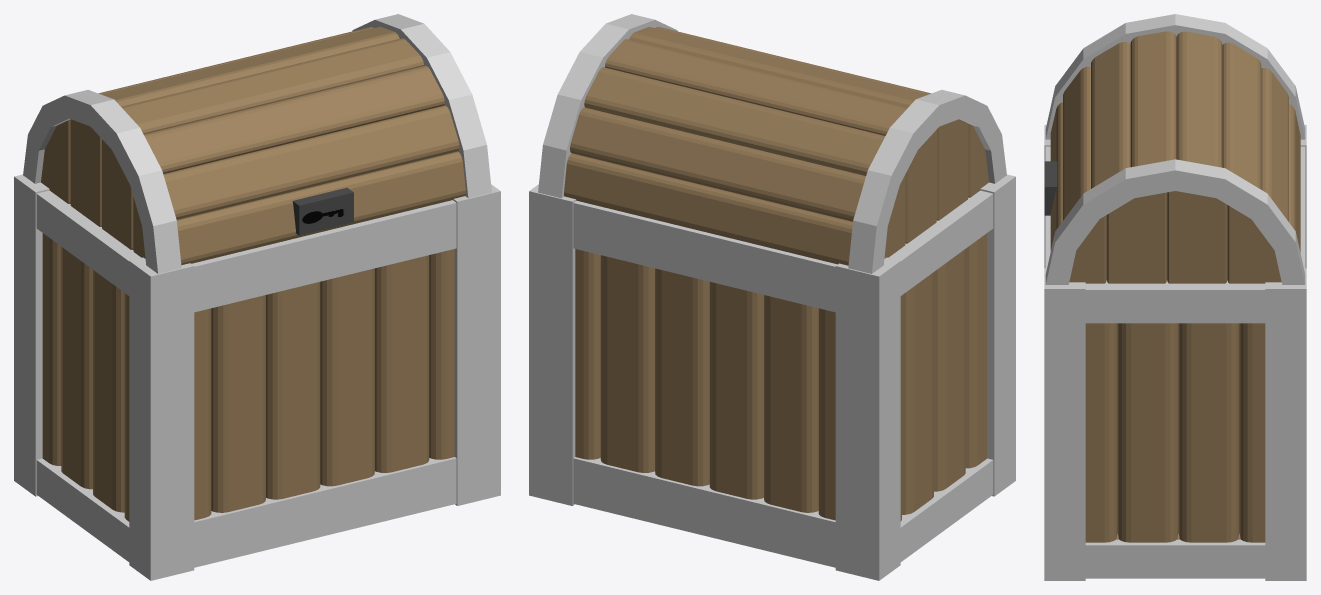
Rendered from CoffreFBX.fbx.
3 views of the same model, side by side, from view 1: azimuth 30°, elevation 25°; view 2: azimuth 150°, elevation 25°; view 3: azimuth 270°, elevation 25° (orthographic). The views are drawn at different scales.
Parts seen in each view (by area): view 1: Long, top, vertical, hor long, small, frame small, hor small, Cylinder, Cube; view 2: top, Long, vertical, hor long, small, frame small, hor small, Cylinder; view 3: small, top, vertical, frame small, Cylinder, hor small, hor long, Cube.
Part boxes in pixels (x1=…): Long: x1=194, y1=249, x2=454, y2=520; top: x1=98, y1=26, x2=465, y2=265; vertical: x1=14, y1=174, x2=500, y2=580; hor long: x1=191, y1=200, x2=456, y2=567; small: x1=42, y1=233, x2=129, y2=521; frame small: x1=23, y1=14, x2=491, y2=273; hor small: x1=36, y1=190, x2=141, y2=561; Cylinder: x1=41, y1=119, x2=145, y2=258; Cube: x1=292, y1=187, x2=353, y2=235; top: x1=564, y1=27, x2=931, y2=265; Long: x1=575, y1=249, x2=835, y2=520; vertical: x1=529, y1=174, x2=1015, y2=580; hor long: x1=573, y1=200, x2=837, y2=567; small: x1=900, y1=233, x2=987, y2=521; frame small: x1=538, y1=14, x2=1006, y2=273; hor small: x1=888, y1=190, x2=993, y2=561; Cylinder: x1=884, y1=119, x2=988, y2=258; small: x1=1085, y1=323, x2=1265, y2=542; top: x1=1050, y1=31, x2=1300, y2=252; vertical: x1=1044, y1=125, x2=1306, y2=580; frame small: x1=1045, y1=14, x2=1305, y2=284; Cylinder: x1=1069, y1=191, x2=1281, y2=283; hor small: x1=1085, y1=280, x2=1265, y2=578; hor long: x1=1045, y1=146, x2=1305, y2=268; Cube: x1=1044, y1=161, x2=1057, y2=215.
Bounding box in the file's own units: 282 × 326 × 191.
Materials: 10 (1 with a texture image).
